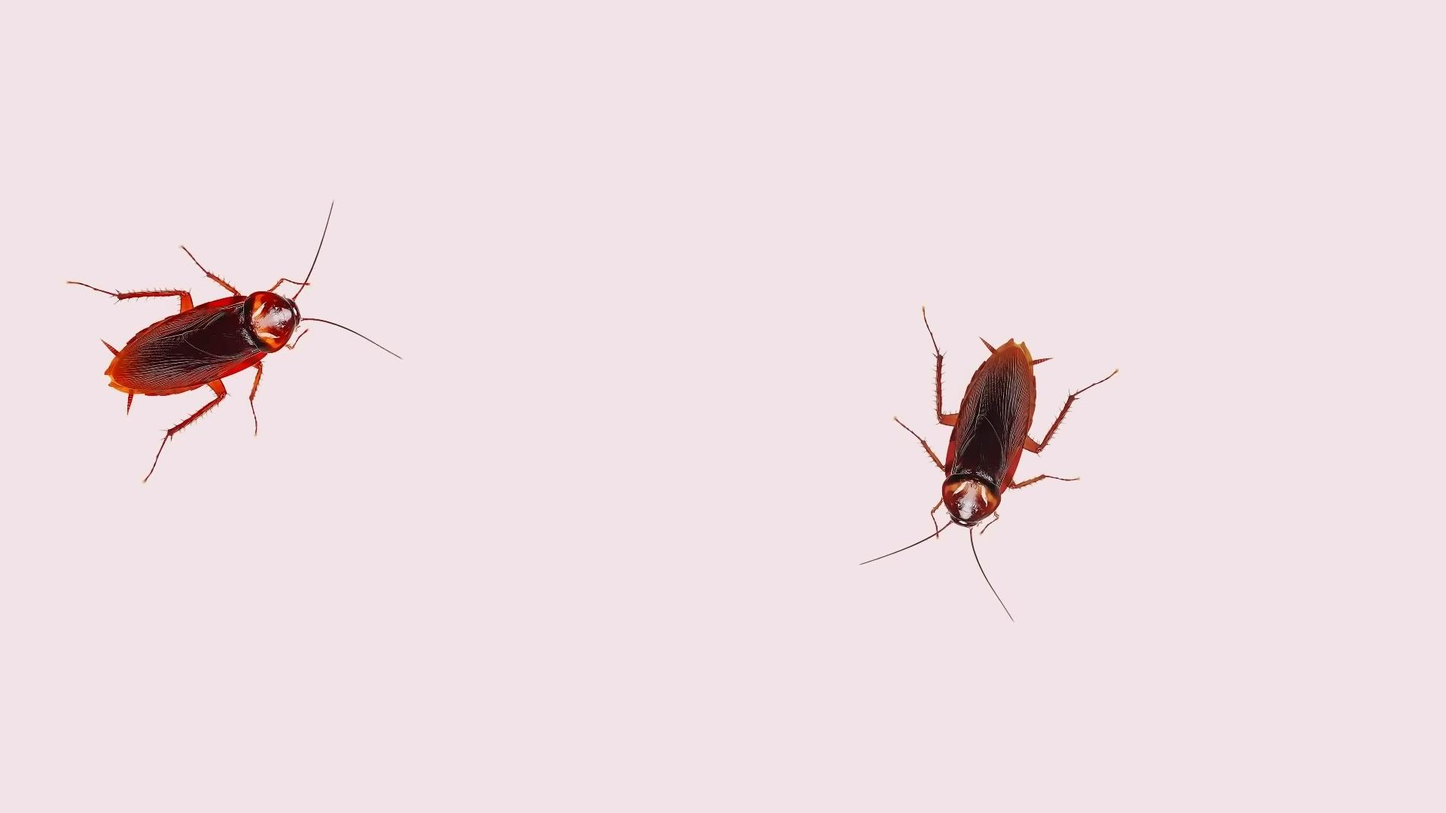cockroach: (36, 222, 385, 454), (869, 264, 1081, 634)
